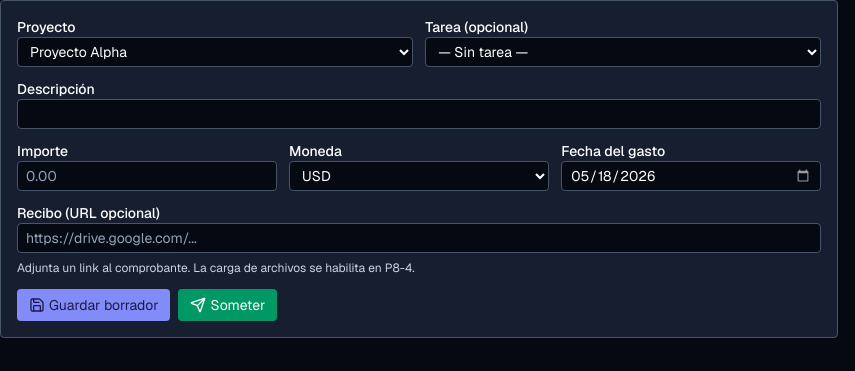
Test: ExpenseSubmissionForm › valida URL de recibo (debe ser http/https)
The image size is (855, 371).
Type "X" into the field labelled "Descripción".
click(419, 114); type("X")  # box [17, 99, 821, 129]
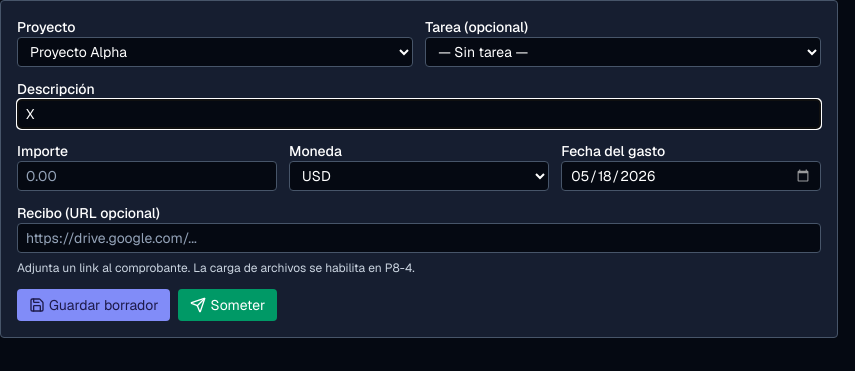
Type "10" into the field with placeholder "0.00".
click(147, 176); type("10")  # box [17, 161, 277, 191]
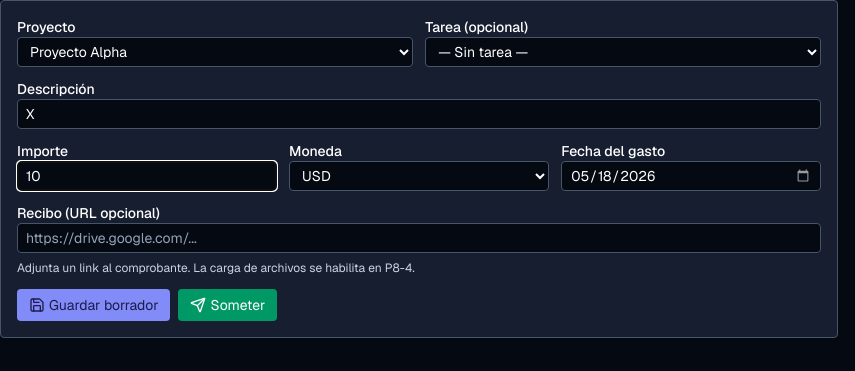
Type "ftp://invalid" into the field with placeholder "https://drive.google.com/...".
click(419, 238); type("ftp://invalid")  # box [17, 223, 821, 253]
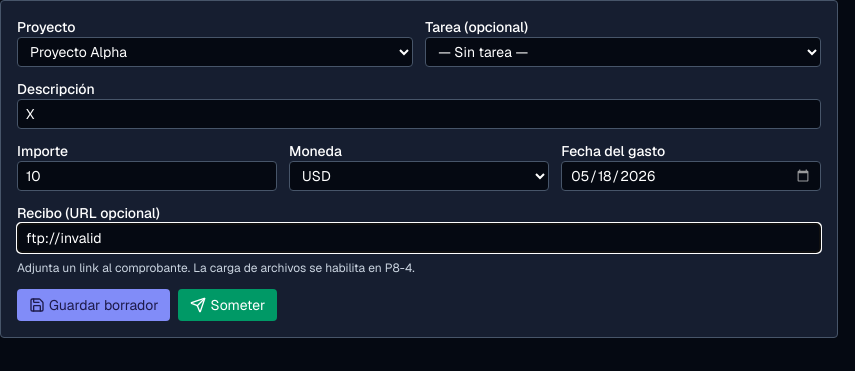
Click the button "Guardar borrador".
click(94, 305)  # box [17, 289, 170, 321]
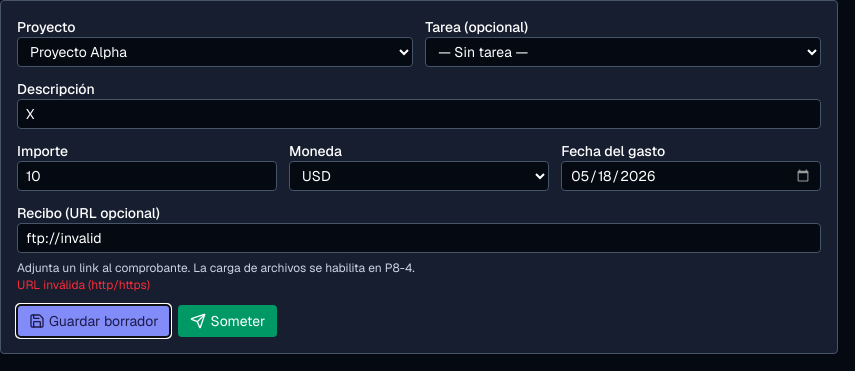
Now the text "URL inválida (http/https)" is shown, box [17, 277, 150, 293]
